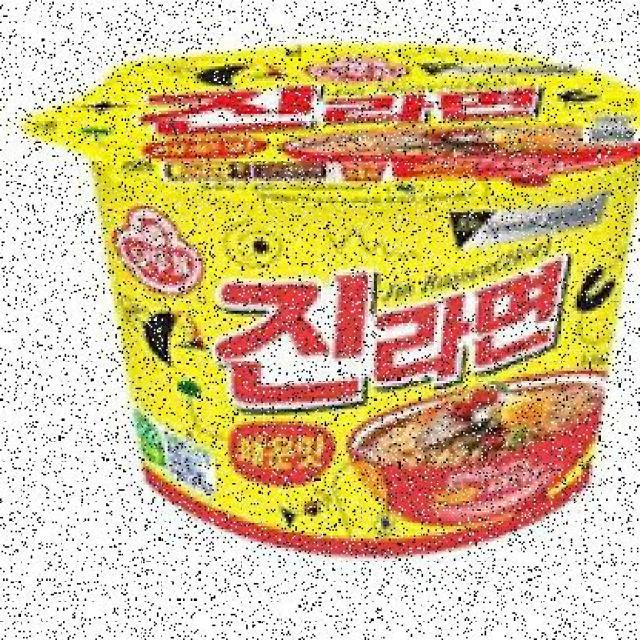Miscellaneous: (54, 41, 640, 548)
